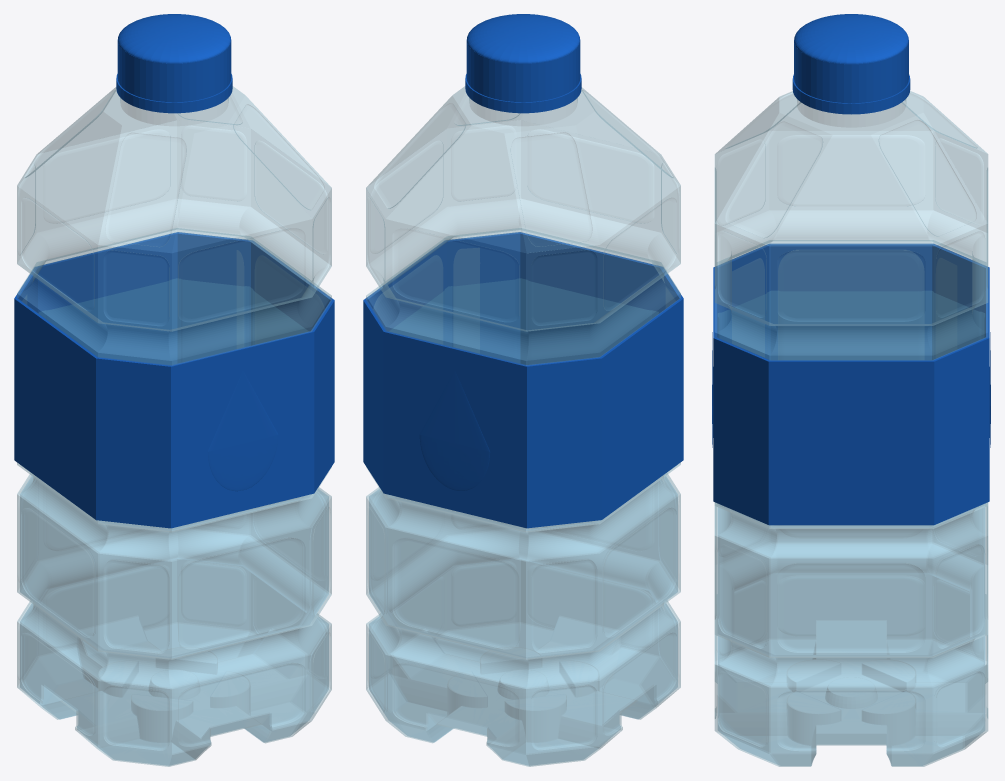
The model's file is waterBottle.glb.
3 renders of one model, left to right at view 1: azimuth 30°, elevation 25°; view 2: azimuth 150°, elevation 25°; view 3: azimuth 270°, elevation 25°, orthographic.
Visible parts, largest first — view 1: Mesh_Mesh_head_geo001_lambert2SG001; view 2: Mesh_Mesh_head_geo001_lambert2SG001; view 3: Mesh_Mesh_head_geo001_lambert2SG001.
Part boxes in pixels (x1,y1,x2,y2): Mesh_Mesh_head_geo001_lambert2SG001: [14, 14, 334, 766]; Mesh_Mesh_head_geo001_lambert2SG001: [363, 14, 683, 766]; Mesh_Mesh_head_geo001_lambert2SG001: [712, 14, 990, 766].
Bounding box in the file's own units: 51 × 139 × 51.
